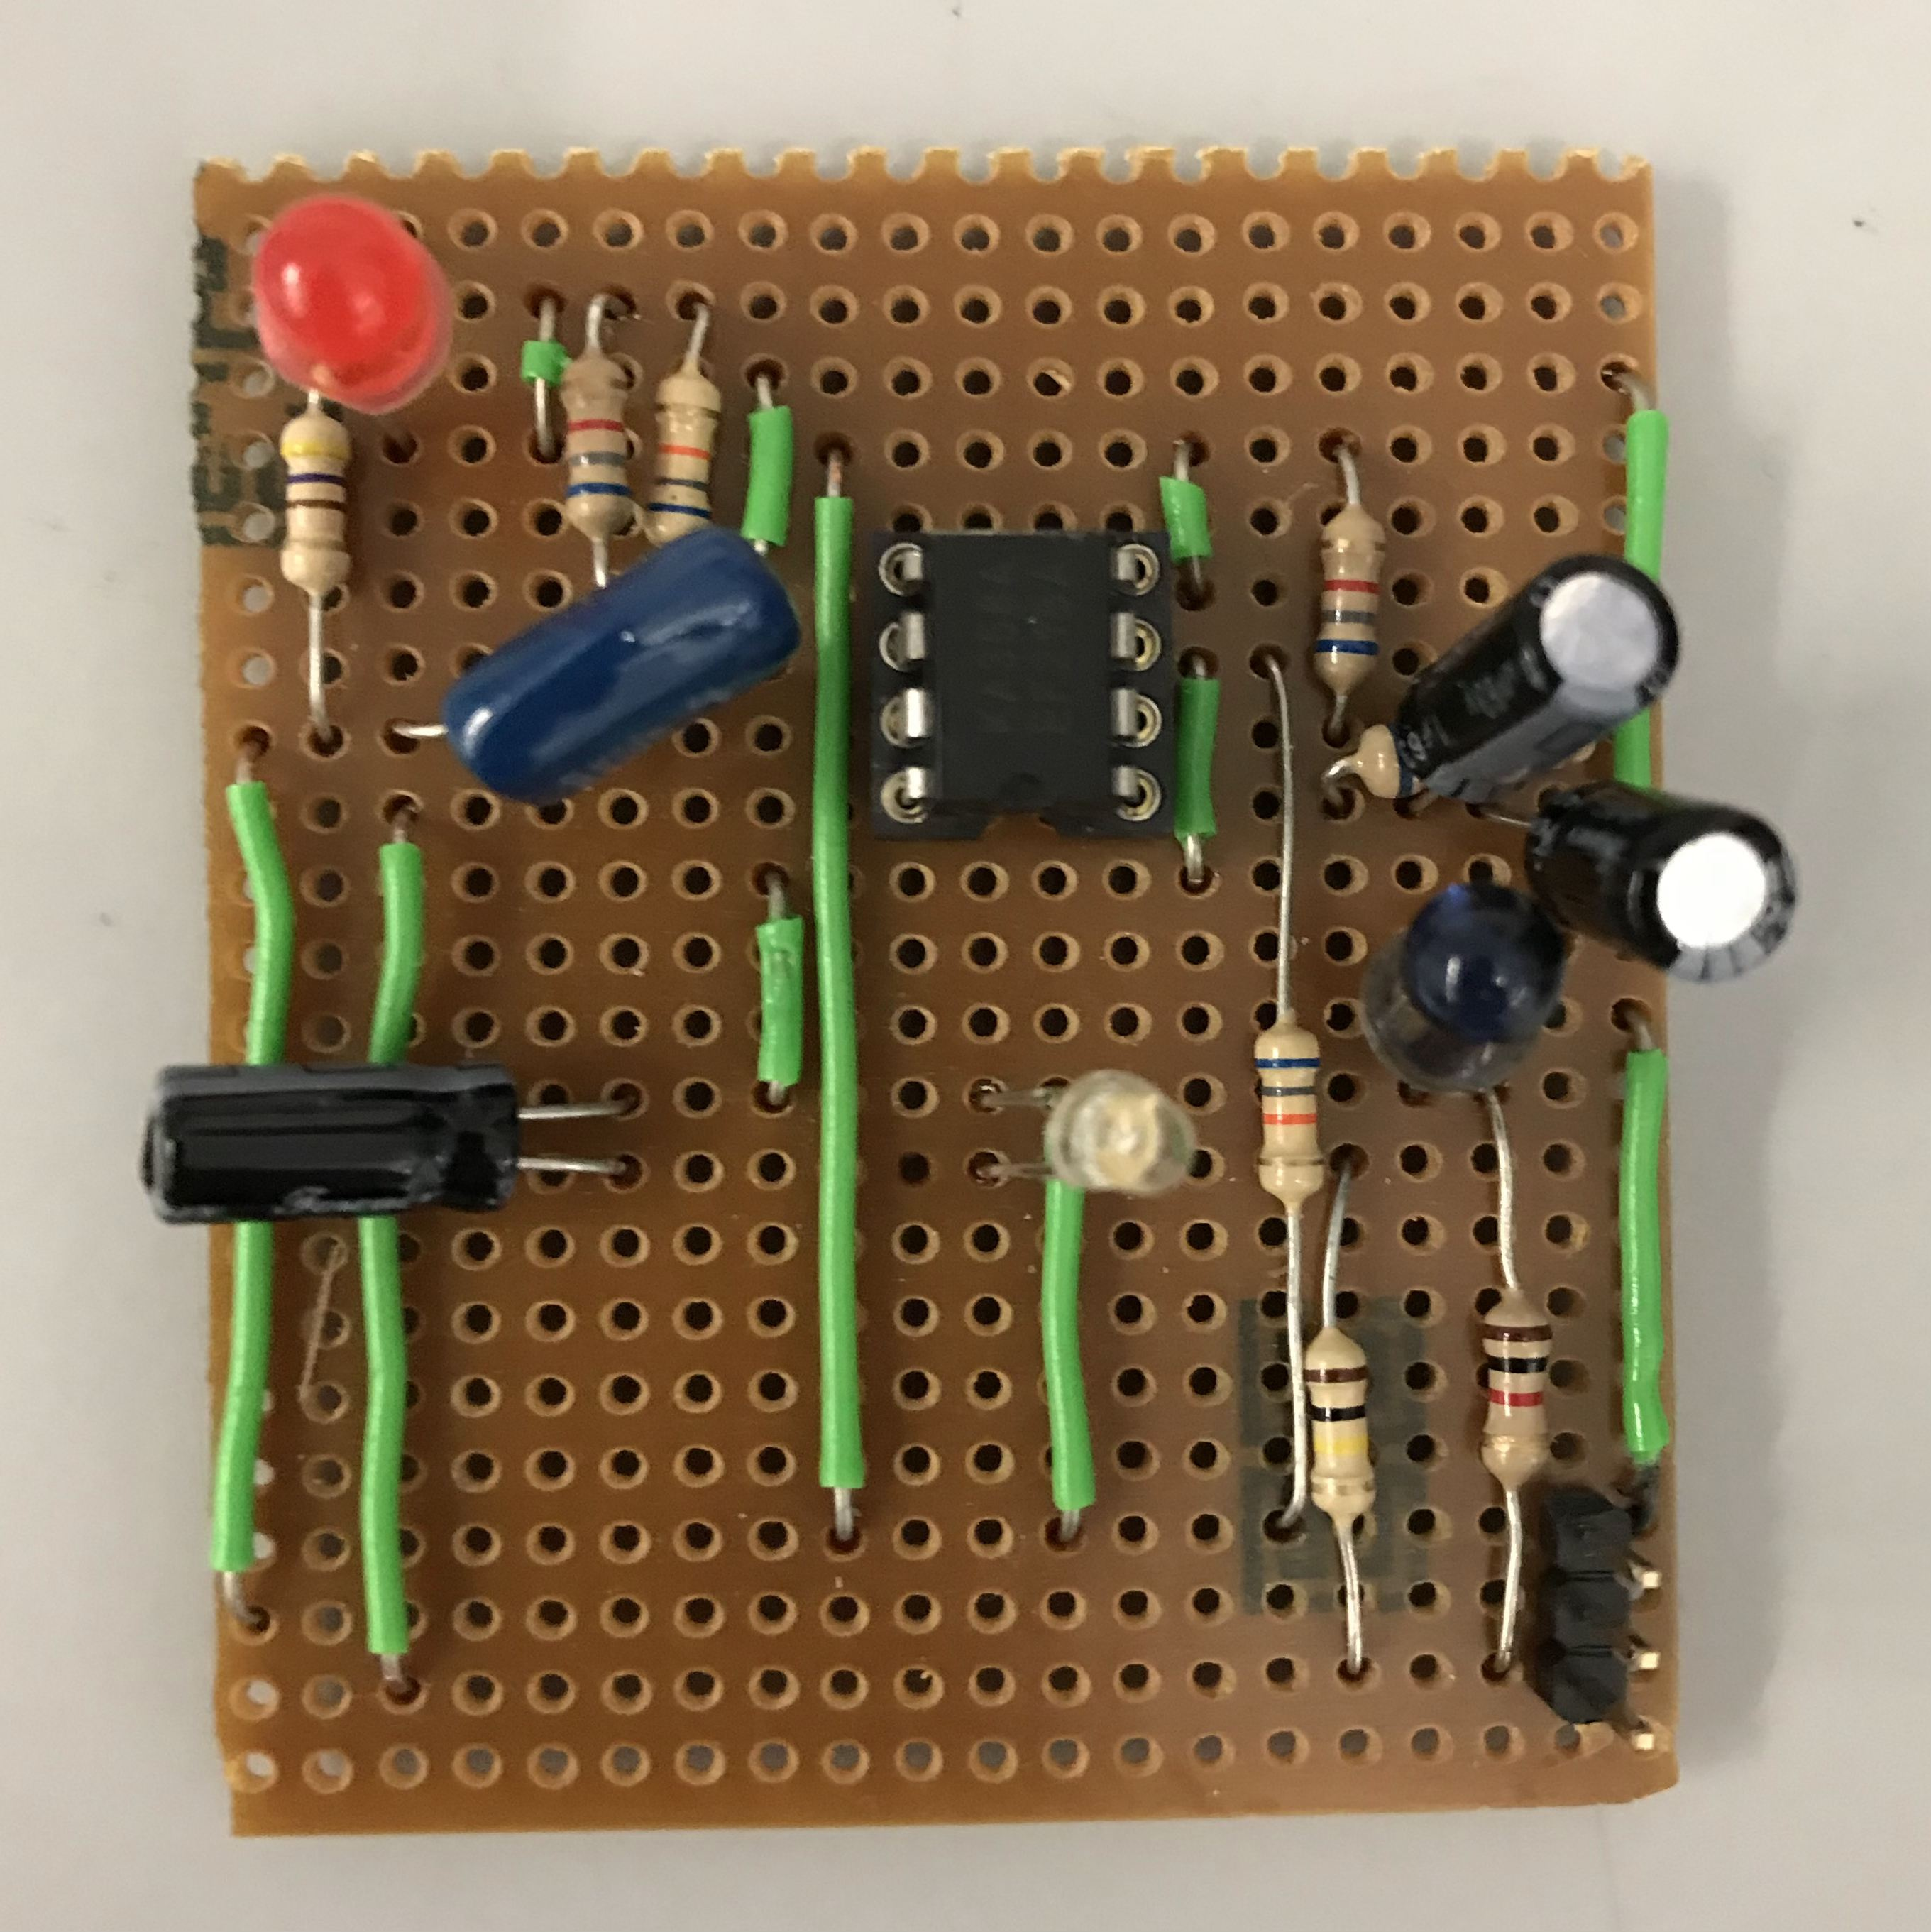Capacitor: (115, 1051, 552, 1228), (1390, 548, 1685, 809), (1528, 771, 1811, 984)
LED: (246, 191, 465, 419), (1036, 1053, 1208, 1208)
Resistor: (1471, 1274, 1561, 1507), (1298, 1307, 1383, 1553), (637, 352, 732, 561), (271, 398, 359, 616), (553, 334, 635, 566), (1314, 488, 1392, 709), (1256, 998, 1324, 1233)
